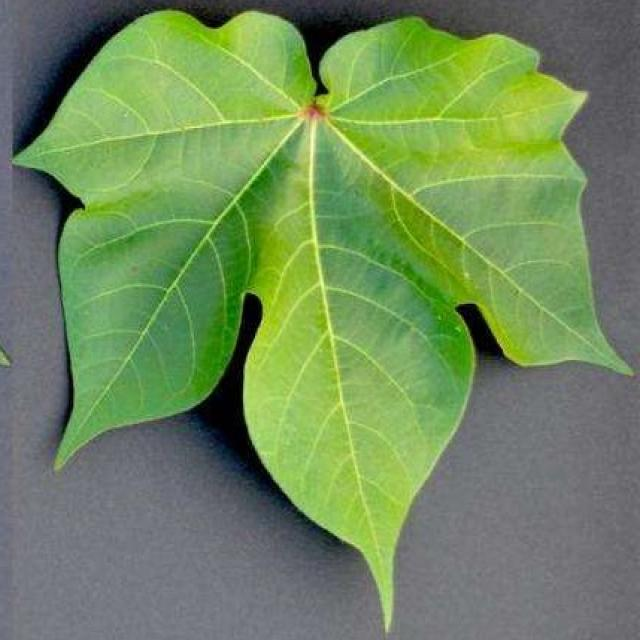Healthy Leaf: (10, 29, 640, 581)
